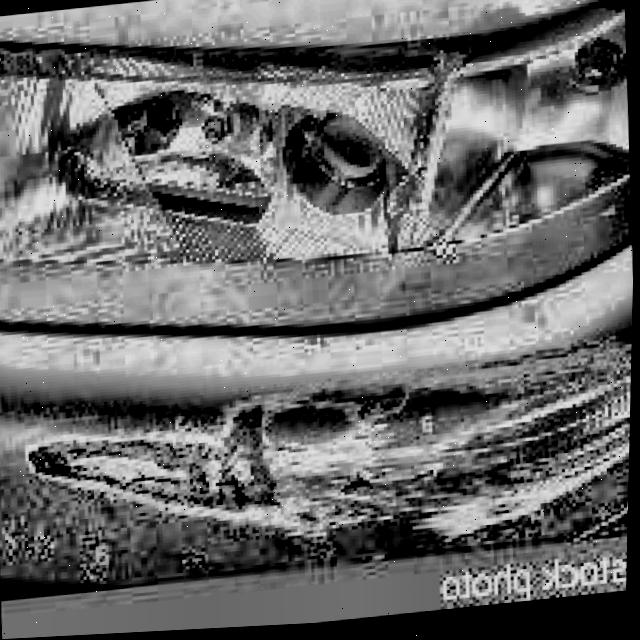head_lamp: (95, 82, 440, 268), (433, 36, 635, 227)
